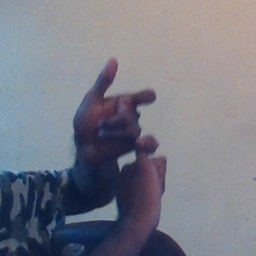S: (69, 54, 176, 222)
